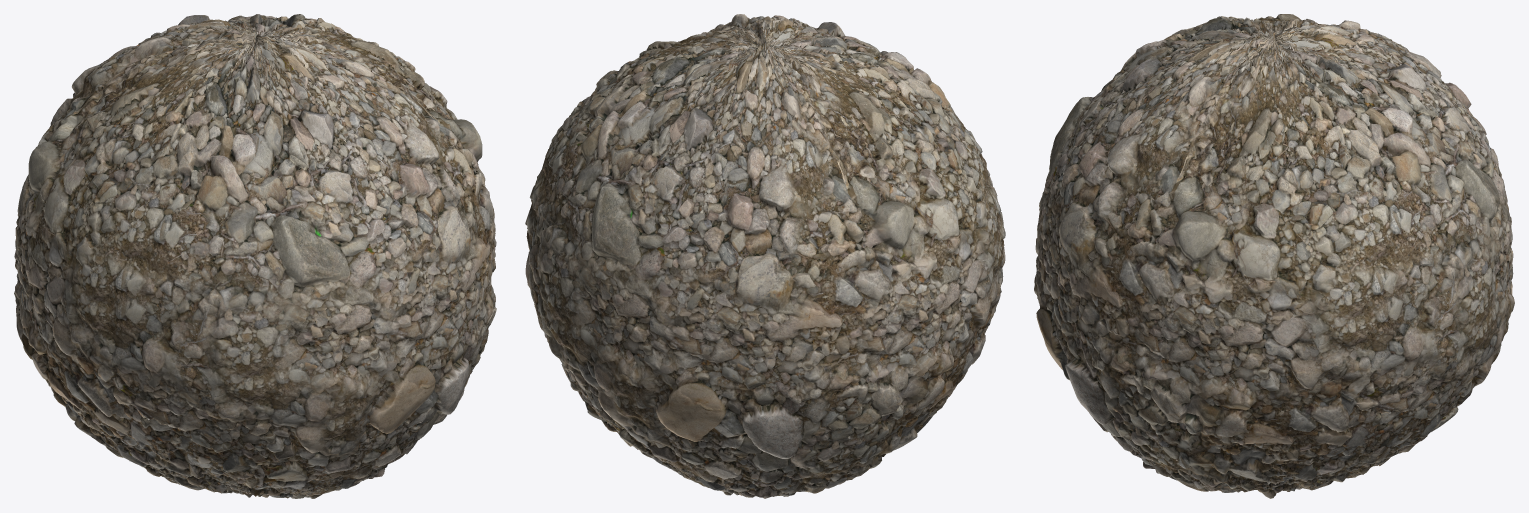
Rendered from rocks_ground_01_2k.gltf.
3 renders of one model, left to right at view 1: azimuth 30°, elevation 25°; view 2: azimuth 150°, elevation 25°; view 3: azimuth 270°, elevation 25°, orthographic. The views are drawn at different scales.
Visible parts, largest first — view 1: sphere_gltf; view 2: sphere_gltf; view 3: sphere_gltf.
Part boxes in pixels (x1,y1,x2,y2): sphere_gltf: (14,14,496,498); sphere_gltf: (525,14,1005,498); sphere_gltf: (1034,14,1514,498).
Size of the model in its own units: 2.03 by 2.05 by 2.01.
1 material, 1 textured.
